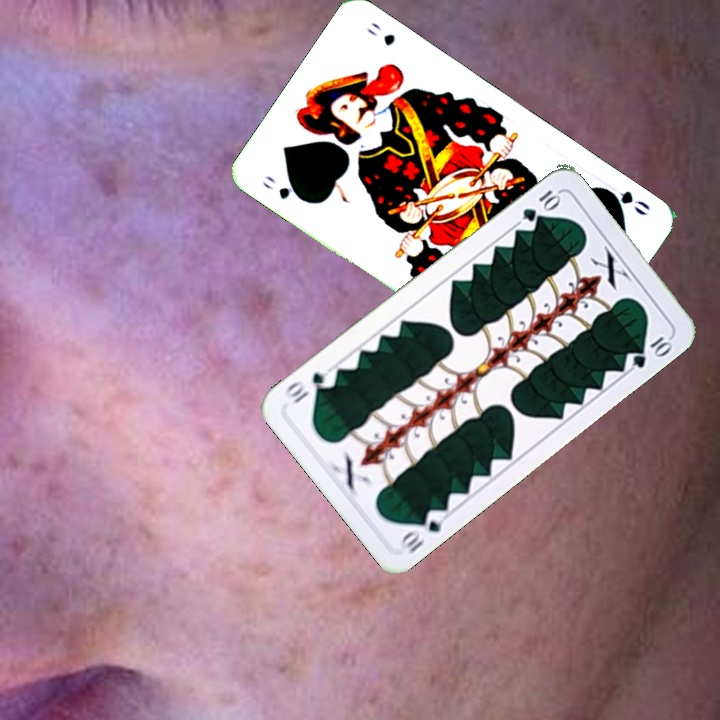G10: (395, 505, 445, 556), (518, 185, 563, 225)
GO: (597, 183, 653, 218), (257, 171, 308, 205)
